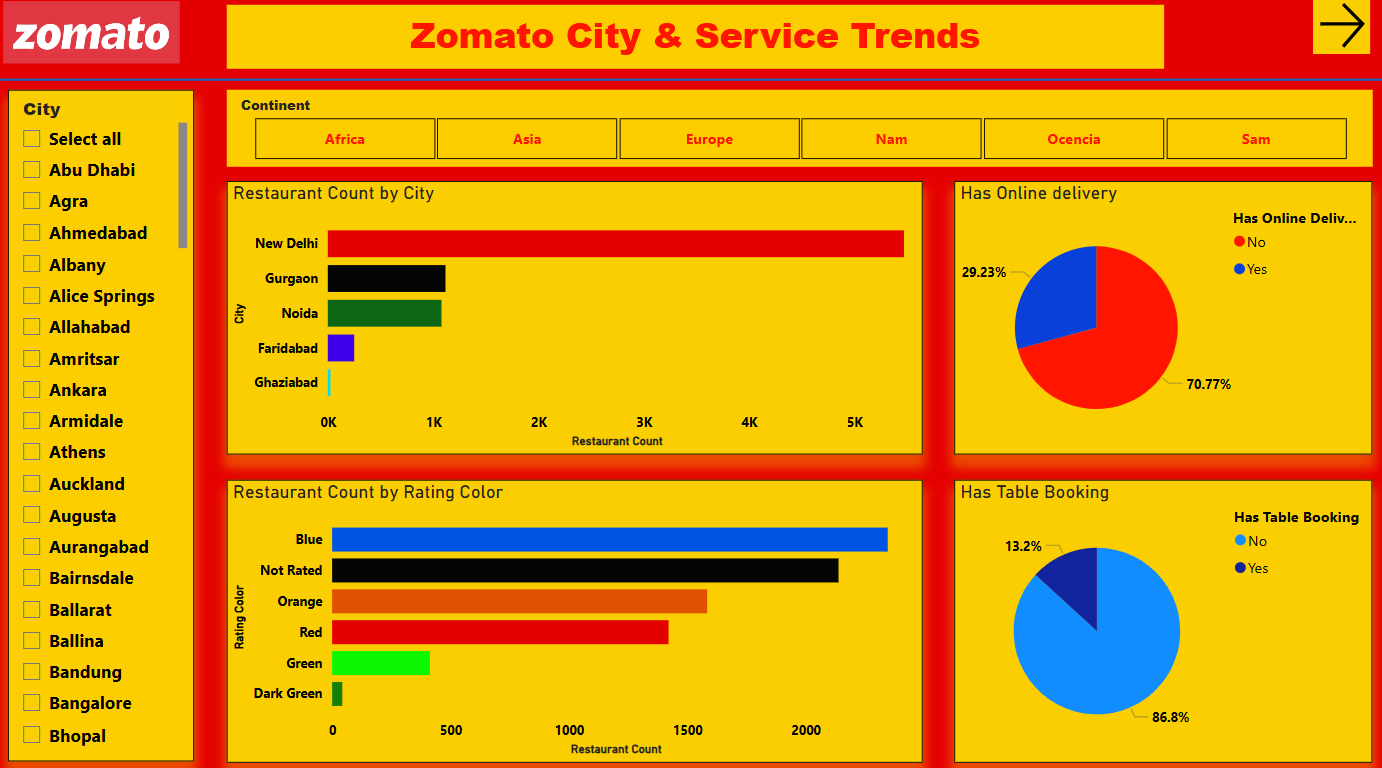

Layout of this report page (visuals, bound fields, positions):
{"tool":"powerbi","page":{"name":"Zomato City & Service Trends","canvas":[1280,720],"ordinal":1},"visuals":[{"type":"slicer","fields":{"Values":["Zomato Global.City"]},"box":[9.8,87.1,171.8,620.9],"z":0},{"type":"image","box":[0,0,173,67.5],"z":1000},{"type":"shape","box":[0,68.7,1279.8,18.4],"z":2000},{"type":"clusteredBarChart","fields":{"Category":["Zomato Global.City"],"Y":["Zomato Global.Restaurant Count"]},"box":[211,170.6,642.9,252.8],"z":3000},{"type":"clusteredBarChart","fields":{"Y":["Zomato Global.Restaurant Count"],"Category":["Fact Table.Rating Color"]},"box":[211,446.6,642.9,261.4],"z":4000},{"type":"pieChart","title":"Has Online delivery","fields":{"Category":["Fact Table.Has Online delivery"],"Y":["CountNonNull(Fact Table.Has Online delivery)"]},"box":[883.4,170.6,386.5,252.8],"z":5000},{"type":"pieChart","title":"Has Table Booking","fields":{"Category":["Fact Table.Has Table booking"],"Y":["CountNonNull(Fact Table.Has Table booking)"]},"box":[883.4,446.6,386.5,261.4],"z":6000},{"type":"slicer","fields":{"Values":["Country-Code.Continent"]},"box":[211,87.1,1058.9,71.2],"z":7000},{"type":"textbox","box":[211,8.6,866.3,58.9],"z":8000},{"type":"actionButton","box":[1216,0,52.8,54],"z":8001}]}

Visuals, with their boxes in screenshot pixels (x1, y1, x2, y2), scaled from the page's 1280x720 canvas onto the 1382x768 screenshot:
slicer - Zomato Global.City: [11, 93, 196, 755]
image: [0, 0, 187, 72]
shape: [0, 73, 1381, 93]
clusteredBarChart - Zomato Global.City x Zomato Global.Restaurant Count: [228, 182, 922, 452]
clusteredBarChart - Zomato Global.Restaurant Count x Fact Table.Rating Color: [228, 476, 922, 755]
"Has Online delivery" pieChart: [954, 182, 1371, 452]
"Has Table Booking" pieChart: [954, 476, 1371, 755]
slicer - Country-Code.Continent: [228, 93, 1371, 169]
textbox: [228, 9, 1163, 72]
actionButton: [1313, 0, 1370, 58]
